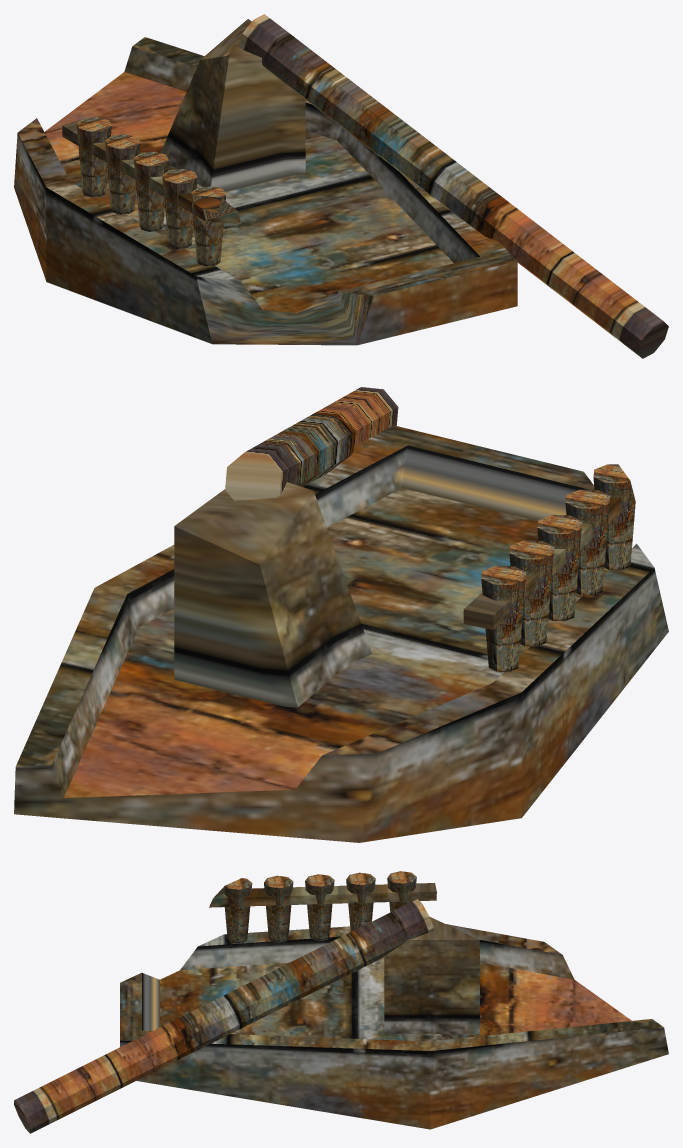
The model's file is epave1.fbx.
The picture shows the model from 3 angles, top to bottom: view 1: azimuth 30°, elevation 25°; view 2: azimuth 150°, elevation 25°; view 3: azimuth 270°, elevation 25°; orthographic projection. The views are drawn at different scales.
Parts seen in each view (by area): view 1: Epave1; view 2: Epave1; view 3: Epave1.
Boxes of the visible parts, box(x1,y1,x2,y2) form: Epave1: box(14, 14, 668, 358); Epave1: box(14, 387, 668, 842); Epave1: box(14, 871, 668, 1133).
Size of the model in its own units: 361 by 200 by 654.
